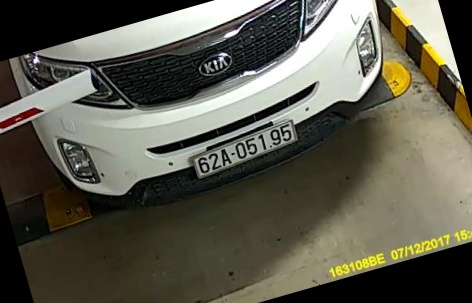plate: (186, 118, 316, 179)
